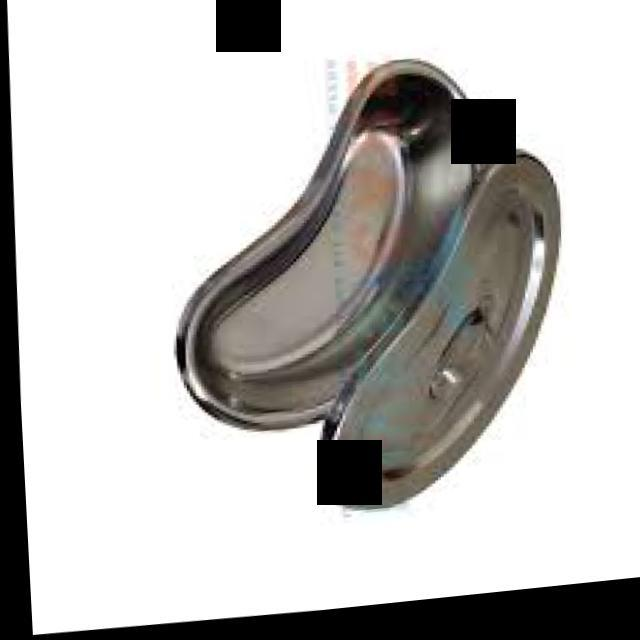Kidney Tray: (160, 23, 502, 457)
